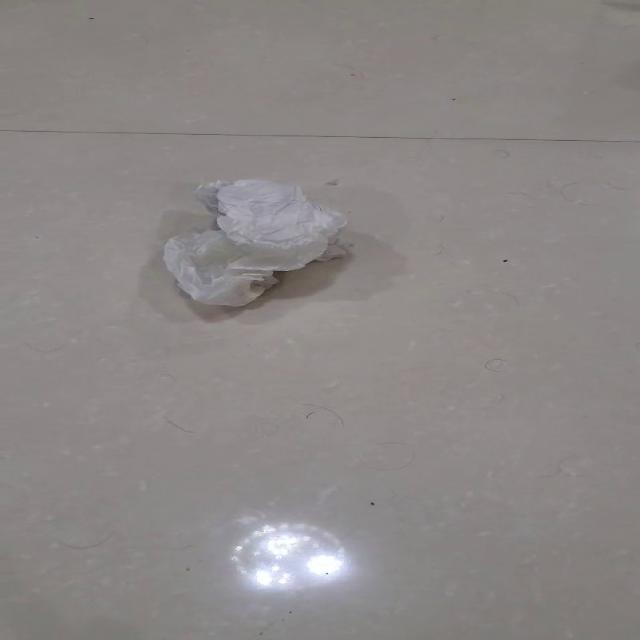plastic: (161, 177, 348, 307)
